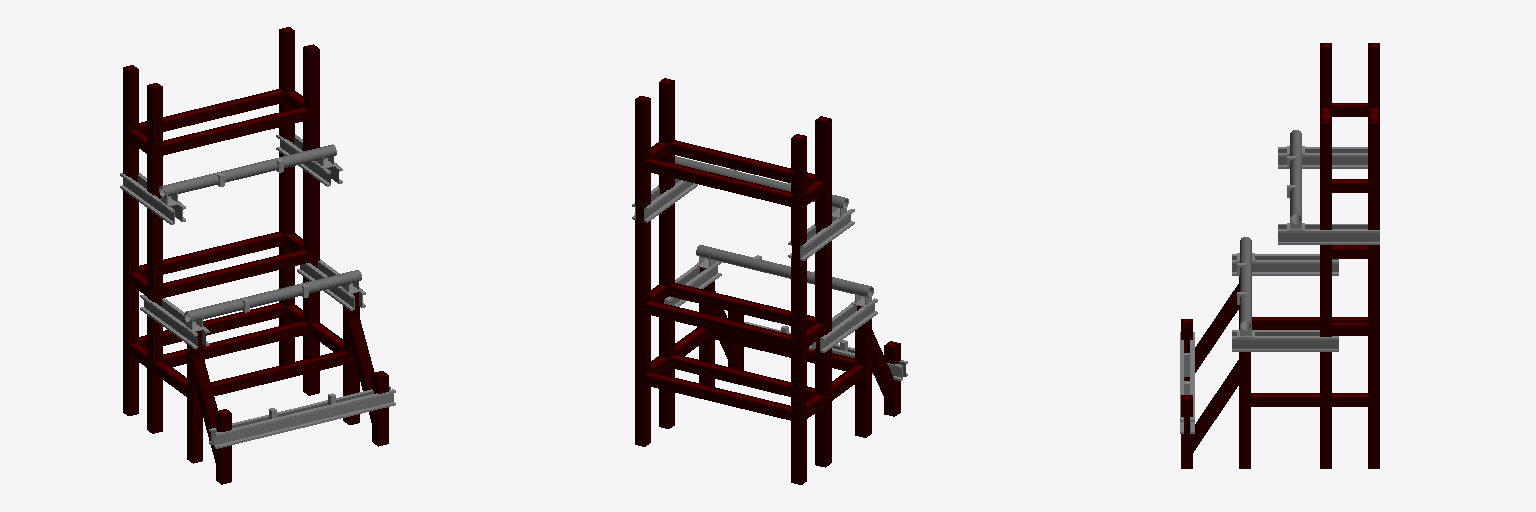
Rendered from rmc_support_steep_to_vertical.obj.
3 views of the same model, side by side, from view 1: azimuth 30°, elevation 25°; view 2: azimuth 150°, elevation 25°; view 3: azimuth 270°, elevation 25° (orthographic).
Bounding box in the file's own units: 3.55 × 6.51 × 3.43.